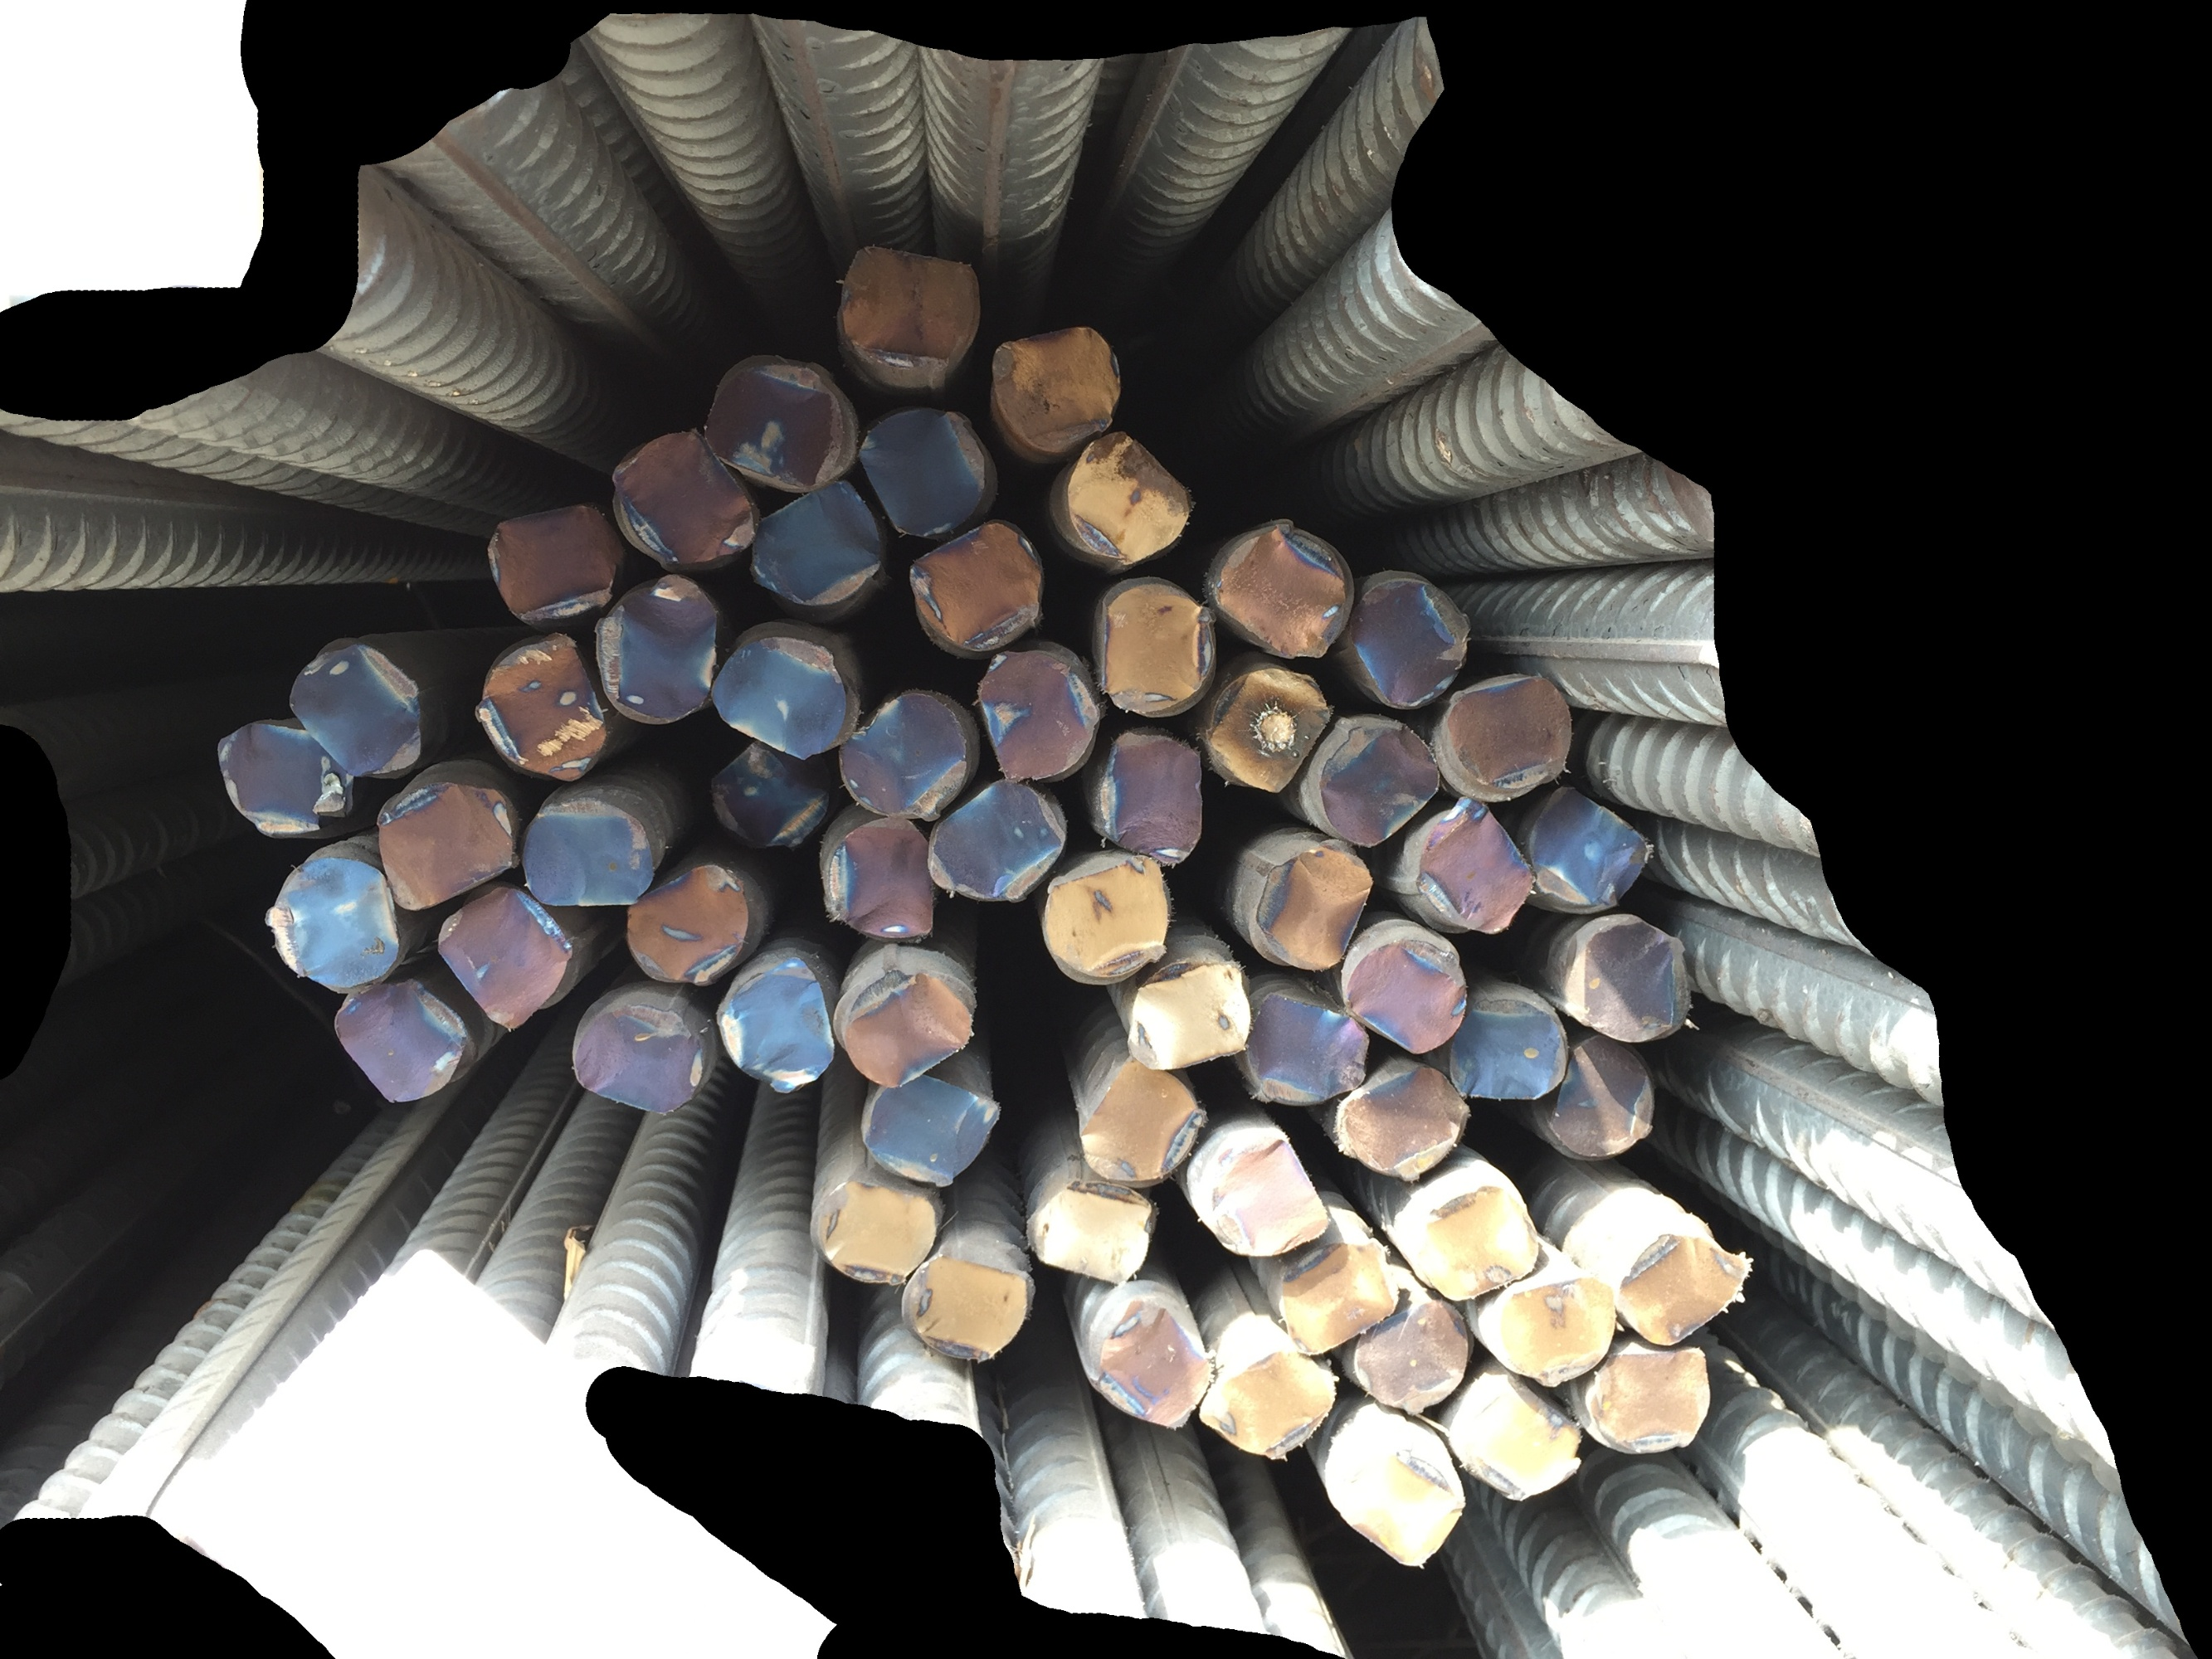rebar: (833, 239, 988, 399), (603, 425, 763, 577), (1318, 1413, 1469, 1572), (427, 882, 580, 1037), (1204, 518, 1356, 664), (899, 516, 1053, 659), (260, 852, 413, 995), (1400, 791, 1541, 945), (467, 629, 607, 784), (830, 683, 978, 828), (593, 568, 723, 732), (370, 777, 521, 917), (1321, 1058, 1480, 1190), (1058, 422, 1201, 568), (281, 640, 431, 779), (924, 772, 1072, 911), (1184, 1122, 1335, 1258), (985, 317, 1130, 458), (741, 474, 887, 613), (1389, 1182, 1550, 1309), (209, 713, 366, 842), (1032, 849, 1177, 988), (694, 362, 840, 498), (1442, 1368, 1588, 1504), (852, 403, 992, 544), (1307, 711, 1443, 854), (856, 1065, 1008, 1192), (708, 629, 851, 763), (326, 974, 471, 1107), (1089, 577, 1220, 723), (1199, 662, 1337, 800), (1527, 1025, 1663, 1164), (1072, 1053, 1208, 1192), (971, 641, 1102, 786), (1347, 573, 1478, 718), (1525, 779, 1659, 918), (1248, 835, 1377, 979), (1088, 1295, 1220, 1434), (706, 962, 840, 1096), (816, 810, 943, 951), (835, 967, 980, 1091), (1442, 671, 1579, 800), (1238, 981, 1375, 1110), (1572, 911, 1700, 1051), (1091, 725, 1210, 873), (483, 498, 622, 624), (568, 999, 711, 1121), (1198, 1345, 1344, 1462), (619, 859, 751, 988), (1333, 934, 1469, 1060), (514, 796, 662, 911), (1614, 1229, 1755, 1349), (697, 732, 833, 856), (1114, 955, 1255, 1073), (802, 1175, 943, 1293), (898, 1251, 1039, 1368), (1018, 1175, 1163, 1288), (1272, 1236, 1403, 1359), (1440, 988, 1576, 1103), (1347, 1295, 1475, 1417), (1584, 1340, 1713, 1457), (1489, 1274, 1619, 1385)
